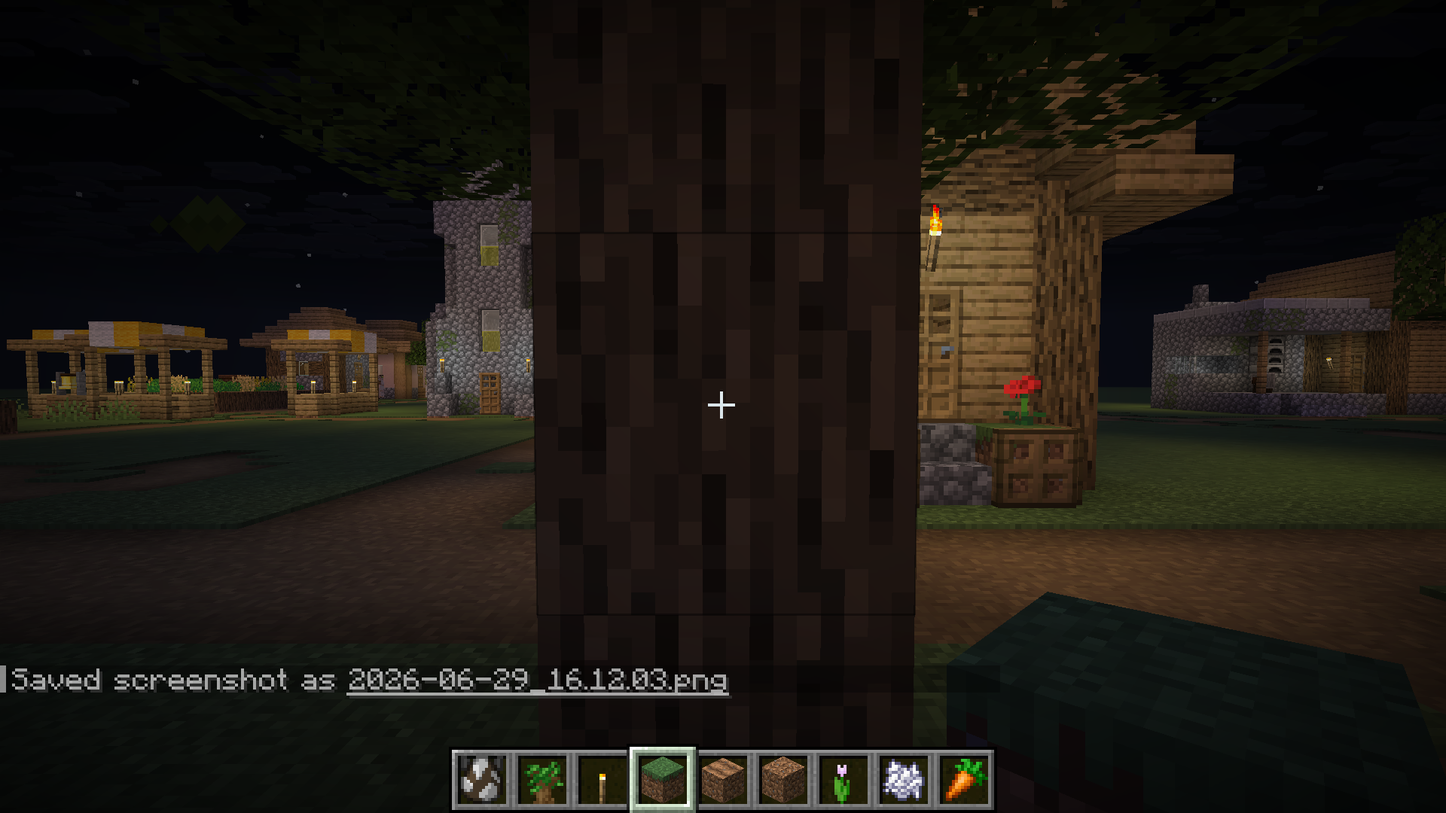cablestone: (1157, 322, 1188, 353)
flower: (1003, 368, 1050, 430)
wood: (548, 38, 906, 456), (535, 237, 915, 617), (539, 625, 911, 774), (1042, 220, 1100, 387), (976, 161, 1031, 212)
